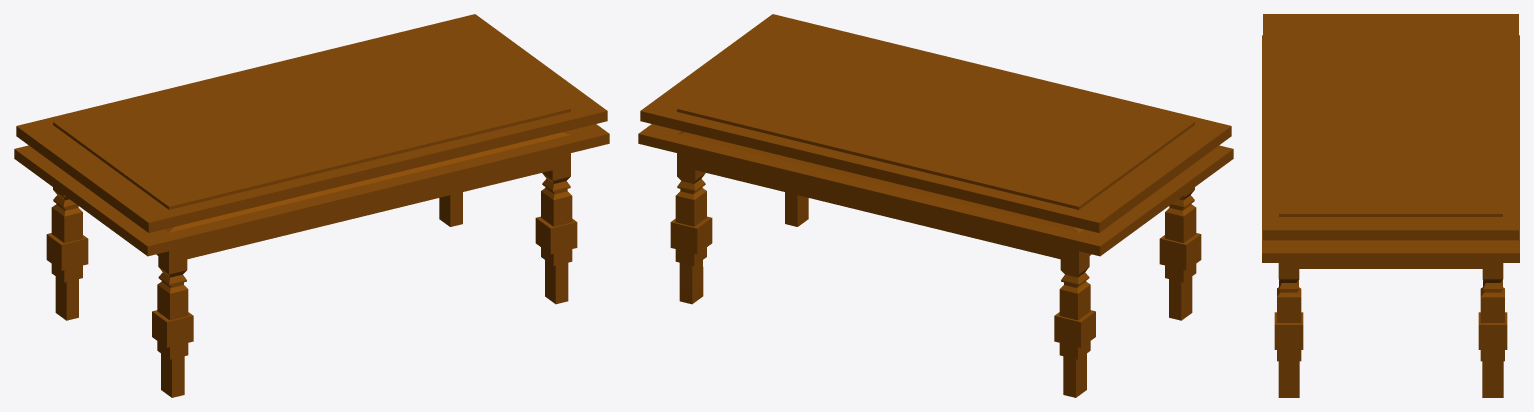
Rendered from M_TableRectangulaire.fbx.
3 renders of one model, left to right at view 1: azimuth 30°, elevation 25°; view 2: azimuth 150°, elevation 25°; view 3: azimuth 270°, elevation 25°, orthographic. The views are drawn at different scales.
Visible parts, largest first — view 1: Cube; view 2: Cube; view 3: Cube.
Boxes of the visible parts, box(x1,y1,x2,y2) form: Cube: box(14, 14, 609, 397); Cube: box(638, 14, 1233, 397); Cube: box(1262, 14, 1519, 397).
Size of the model in its own units: 919 by 364 by 460.
